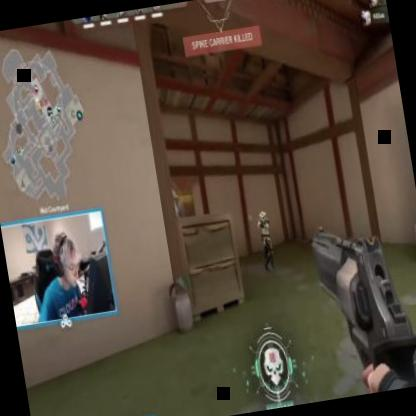enemy: (254, 209, 276, 273)
enemy_head: (259, 210, 265, 219)
